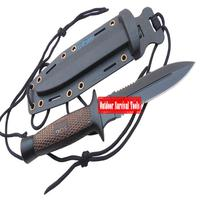knife: (16, 59, 196, 163)
